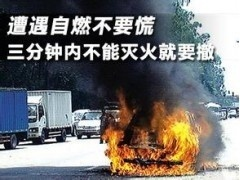fire: (98, 90, 210, 177)
